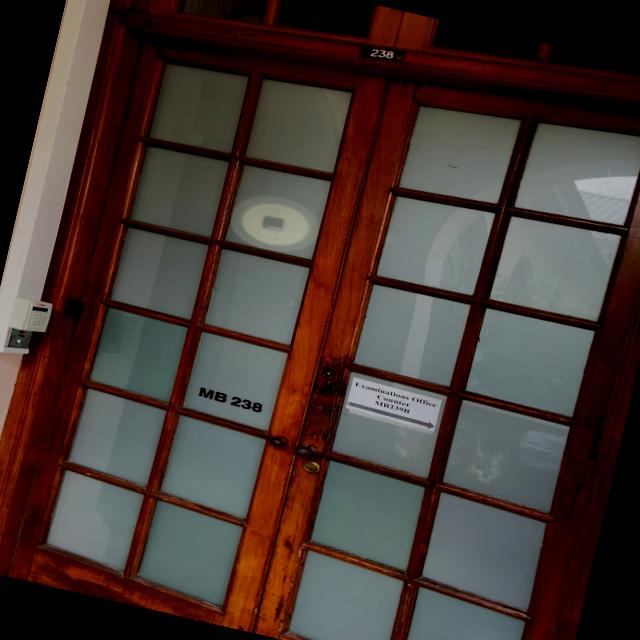room238: (358, 42, 402, 64)
